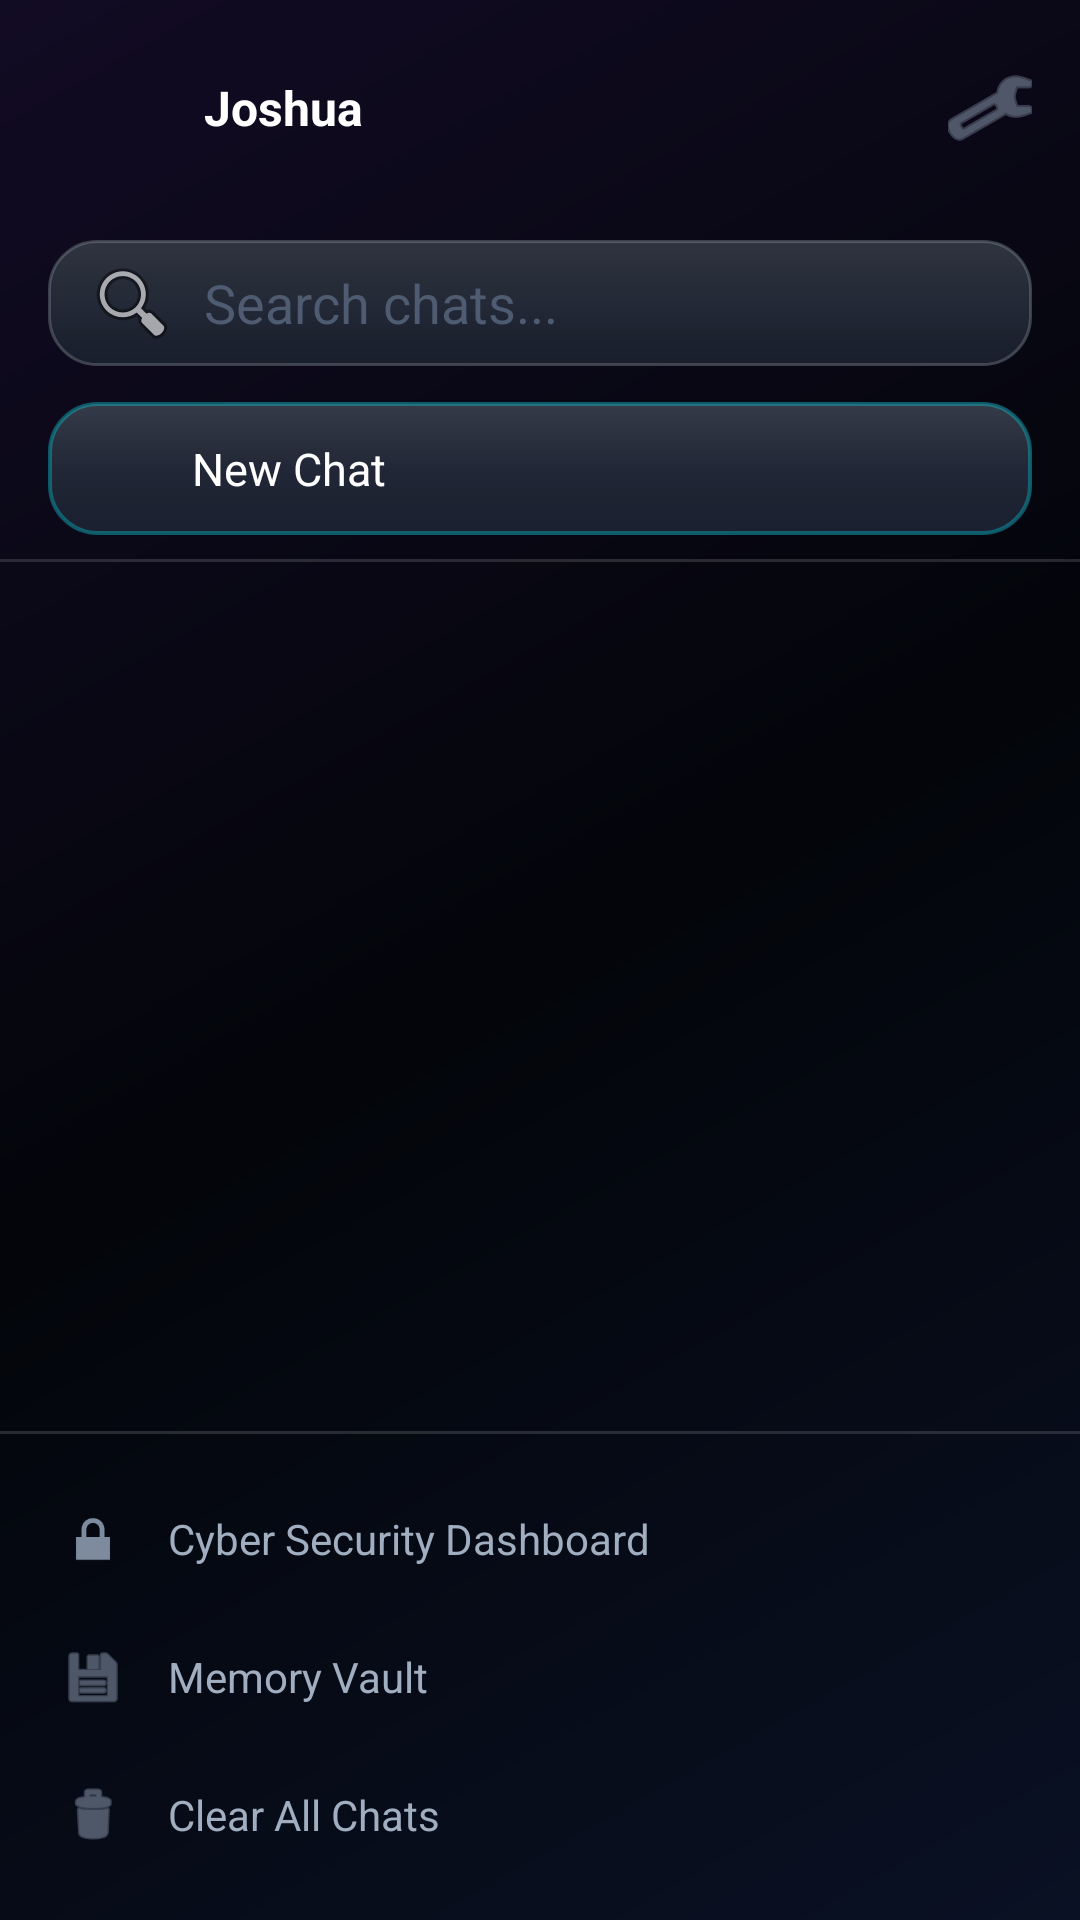

Named icons in this screenshot (1080x1920) and their centers, (x,y):
delete: (93,1814)
lock: (93,1539)
preferences: (990,108)
save: (93,1677)
